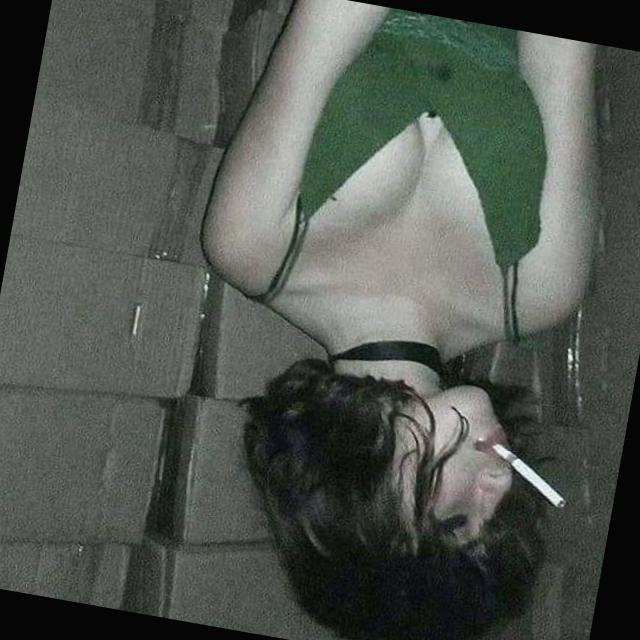cigarette: (460, 415, 594, 526)
